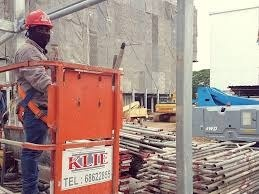helmet: (19, 10, 55, 29)
person with partial safety: (16, 11, 55, 59)
